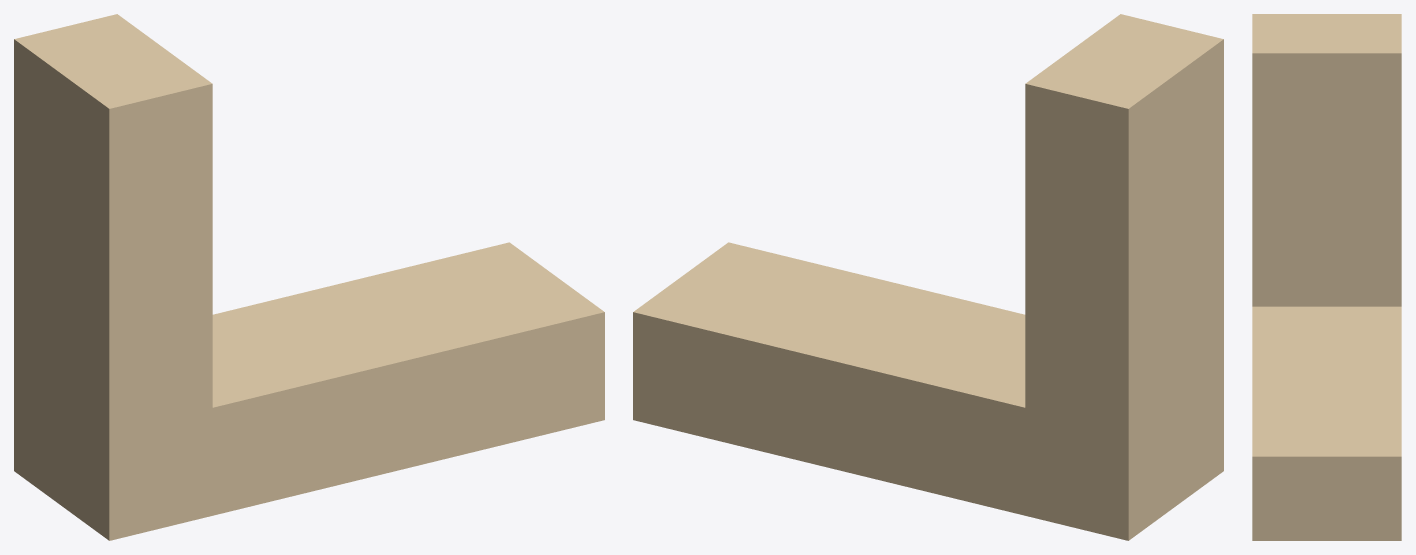
File: prop-square-check-block-ts1.fbx
3 renders of one model, left to right at view 1: azimuth 30°, elevation 25°; view 2: azimuth 150°, elevation 25°; view 3: azimuth 270°, elevation 25°, orthographic. The views are drawn at different scales.
Visible parts, largest first — view 1: prop-square-check-block-ts1; view 2: prop-square-check-block-ts1; view 3: prop-square-check-block-ts1.
Boxes of the visible parts, <box> form: prop-square-check-block-ts1: <box>14,14,604,540</box>; prop-square-check-block-ts1: <box>633,14,1223,540</box>; prop-square-check-block-ts1: <box>1252,14,1401,540</box>.
Size of the model in its own units: 12 by 10 by 4.
